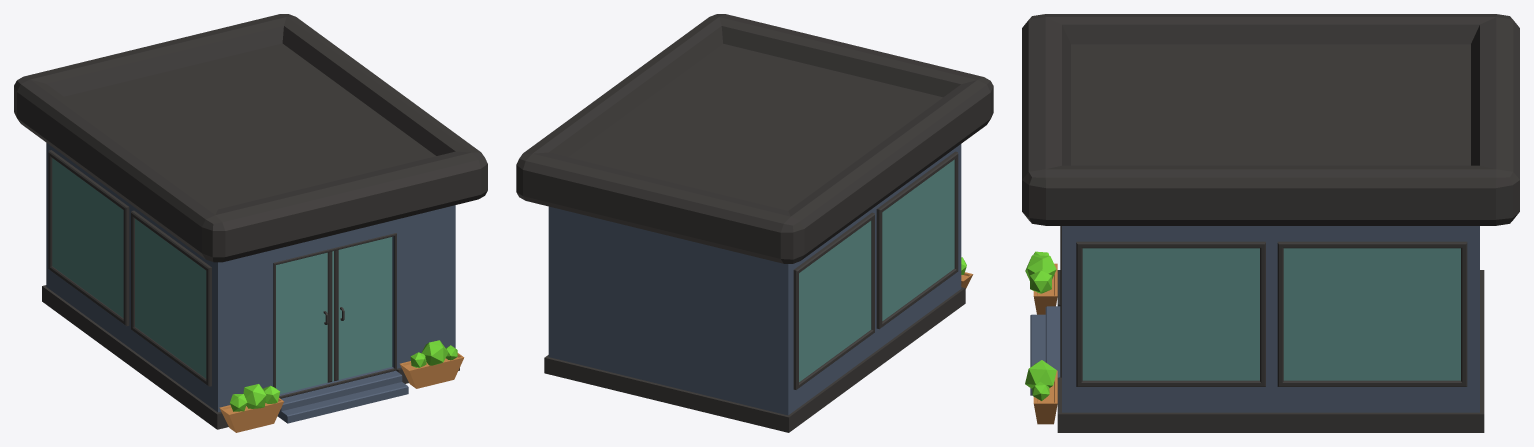
Rendered from Loja.P.fbx.
3 renders of one model, left to right at view 1: azimuth 30°, elevation 25°; view 2: azimuth 150°, elevation 25°; view 3: azimuth 270°, elevation 25°, orthographic. The views are drawn at different scales.
Parts seen in each view (by area): view 1: Loja.P; view 2: Loja.P; view 3: Loja.P.
Part boxes in pixels (box(x1,y1,x2,y2)): Loja.P: box(14, 14, 487, 432); Loja.P: box(516, 14, 993, 432); Loja.P: box(1022, 14, 1519, 432).
Bounding box in the file's own units: 832 × 618 × 1041.
